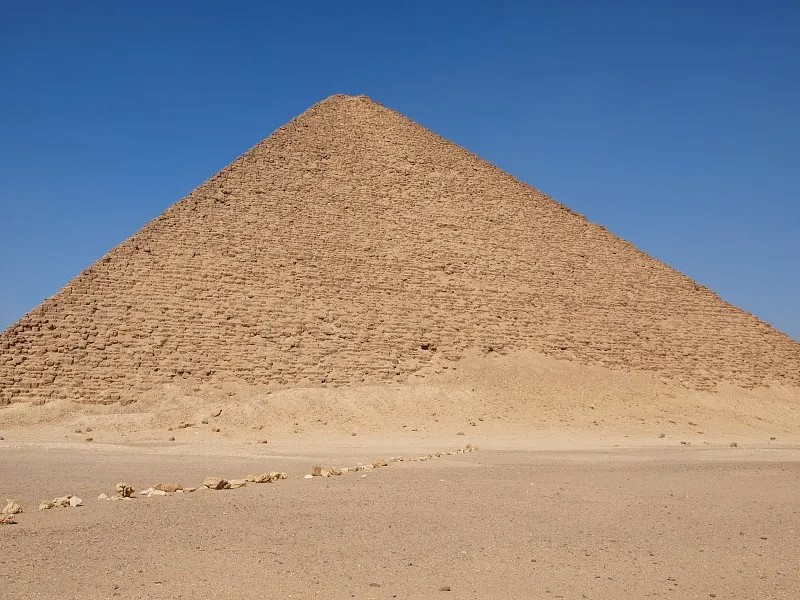Pyramid: (1, 94, 800, 392)
